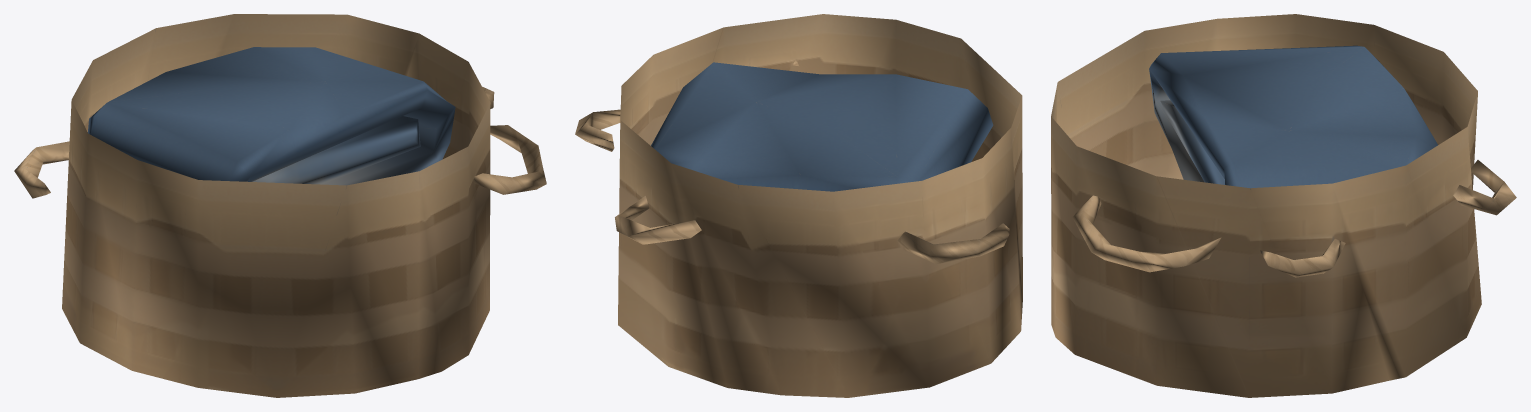
File: storage_basket.fbx
3 renders of one model, left to right at view 1: azimuth 30°, elevation 25°; view 2: azimuth 150°, elevation 25°; view 3: azimuth 270°, elevation 25°, orthographic. The views are drawn at different scales.
Parts seen in each view (by area): view 1: Mesh_0; view 2: Mesh_0; view 3: Mesh_0.
Boxes of the visible parts, bbox=[...] form: Mesh_0: bbox=[14, 14, 546, 397]; Mesh_0: bbox=[575, 14, 1022, 397]; Mesh_0: bbox=[1051, 14, 1516, 397].
Size of the model in its own units: 96.53 by 44.24 by 85.64.
Materials: 1 (1 with a texture image).
